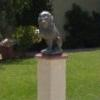Statue: (28, 8, 81, 78)
